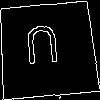U: (22, 24, 62, 74)
